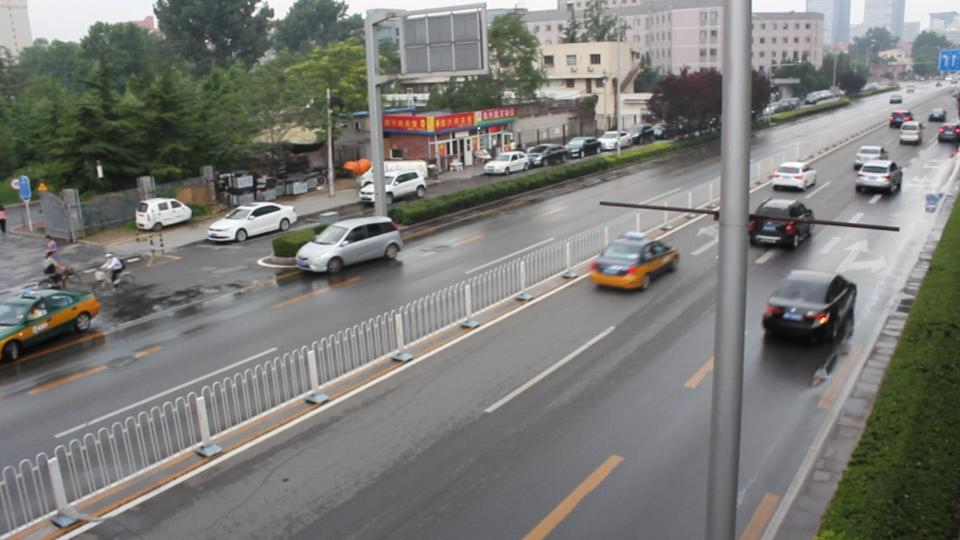car: (757, 268, 859, 337), (1, 289, 100, 360), (586, 229, 679, 291), (769, 161, 818, 192), (483, 151, 529, 175), (850, 144, 890, 167)
microbus: (294, 215, 401, 274)
suv: (747, 195, 815, 250), (356, 171, 426, 204), (852, 159, 903, 196)
truck: (360, 158, 427, 190)
